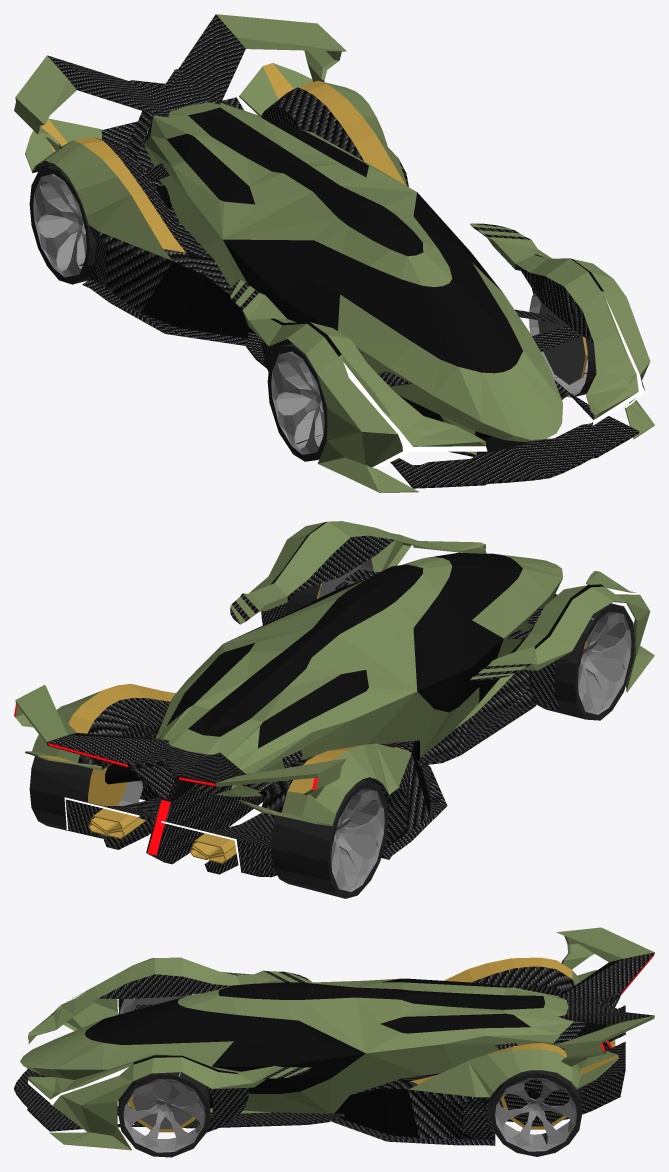
Rendered from vision_gt_body_definitive.glb.
3 renders of one model, top to bottom at view 1: azimuth 30°, elevation 25°; view 2: azimuth 150°, elevation 25°; view 3: azimuth 270°, elevation 25°, orthographic. The views are drawn at different scales.
Parts seen in each view (by area): view 1: Cube, Circle.001, Circle.004, Circle.002; view 2: Cube, Circle.001, Circle.004, Circle.003, Circle.002; view 3: Cube, Circle.003, Circle.002.
Part boxes in pixels (x1,y1,x2,y2): Cube: [14, 14, 654, 492]; Circle.001: [29, 165, 96, 284]; Circle.004: [267, 343, 327, 461]; Circle.002: [529, 292, 596, 397]; Cube: [14, 521, 654, 877]; Circle.001: [271, 779, 388, 898]; Circle.004: [529, 603, 634, 720]; Circle.003: [29, 756, 143, 838]; Circle.002: [285, 558, 373, 614]; Cube: [14, 927, 654, 1150]; Circle.003: [490, 1070, 581, 1156]; Circle.002: [118, 1072, 210, 1157].
Size of the model in its own units: 2 by 0.9427 by 4.67.
Materials: 10 (1 with a texture image).
